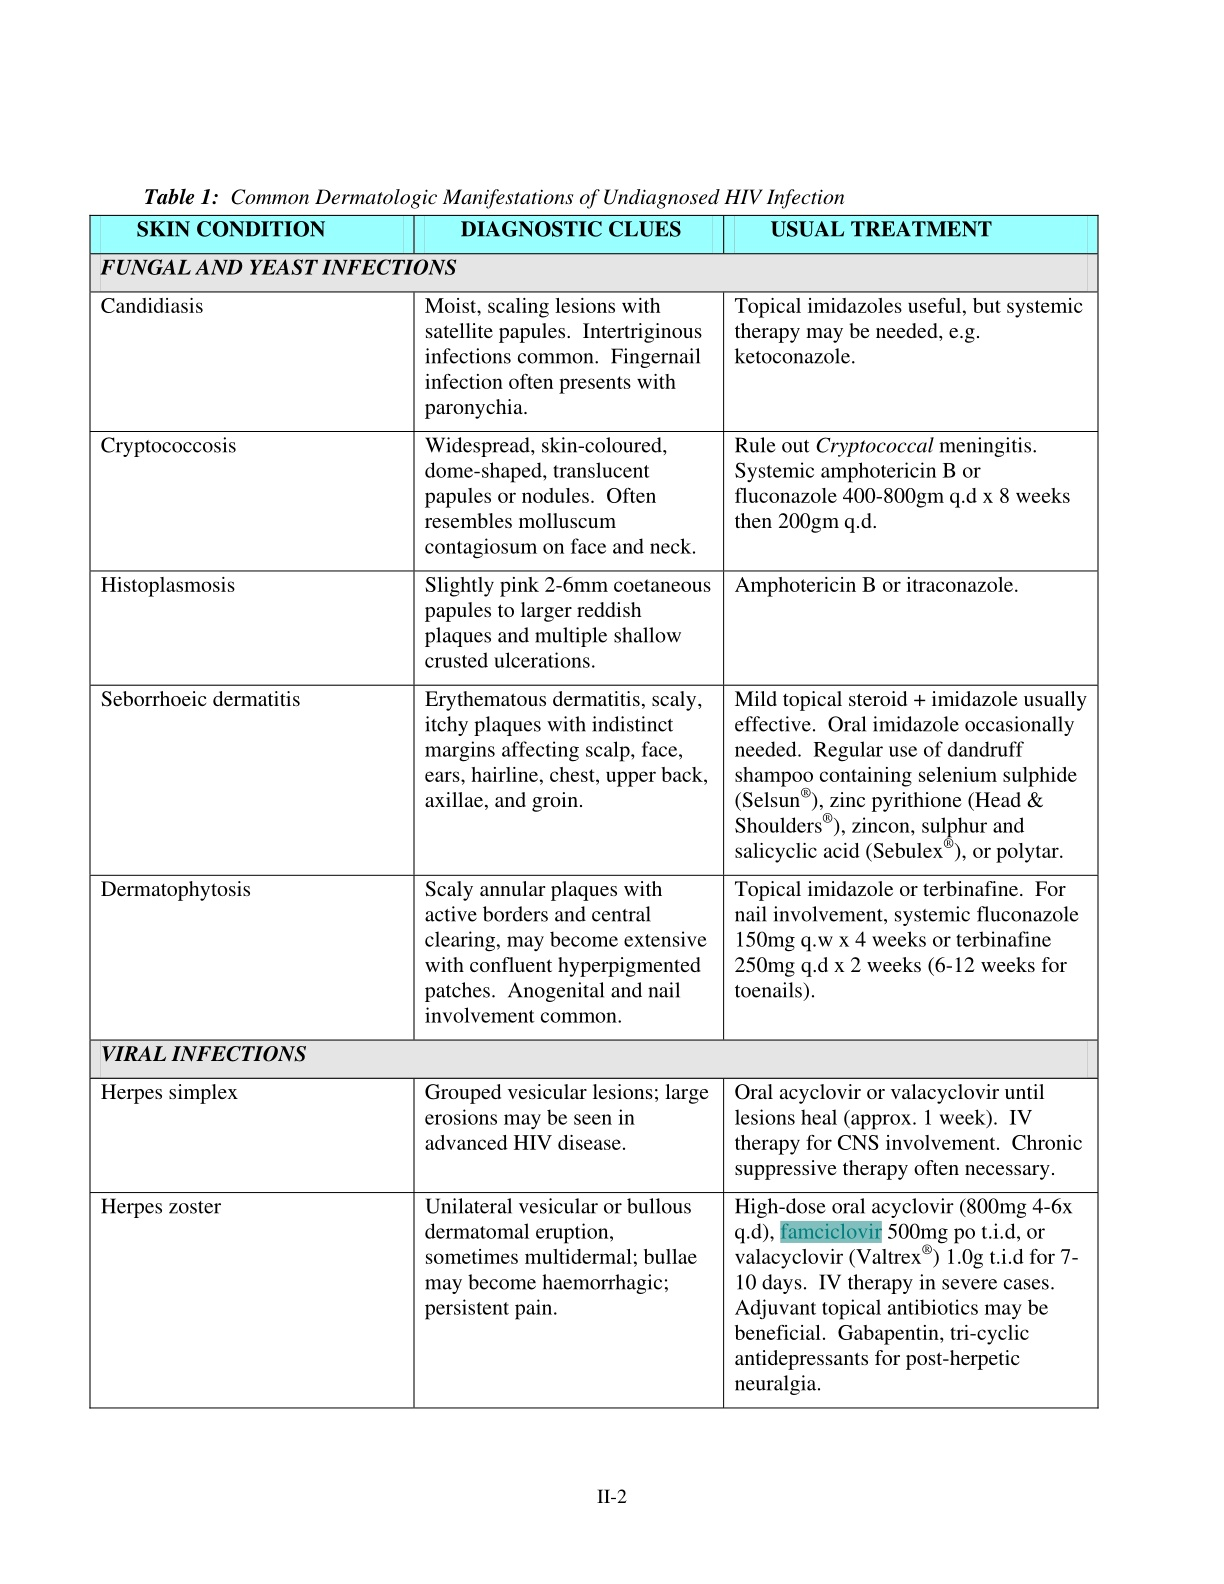merged_cells: (87, 213, 1101, 1410)
